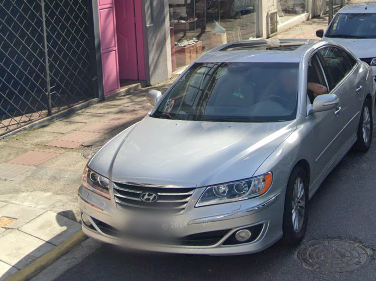car: (77, 38, 374, 254)
